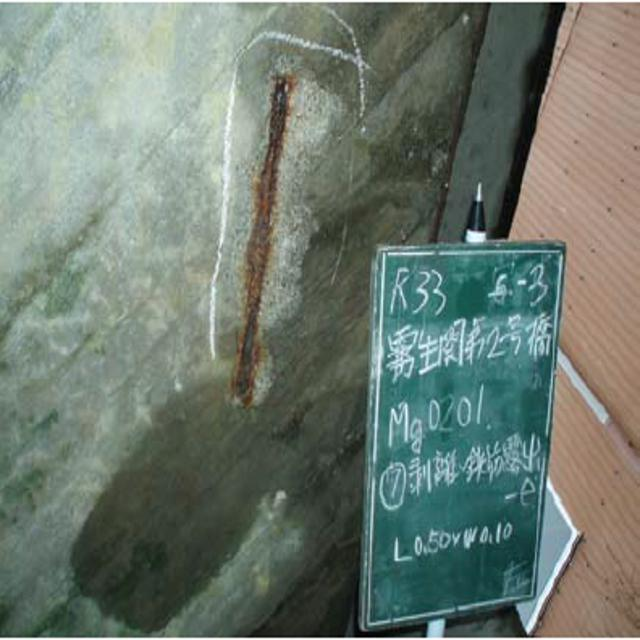spalling: (218, 53, 323, 398)
